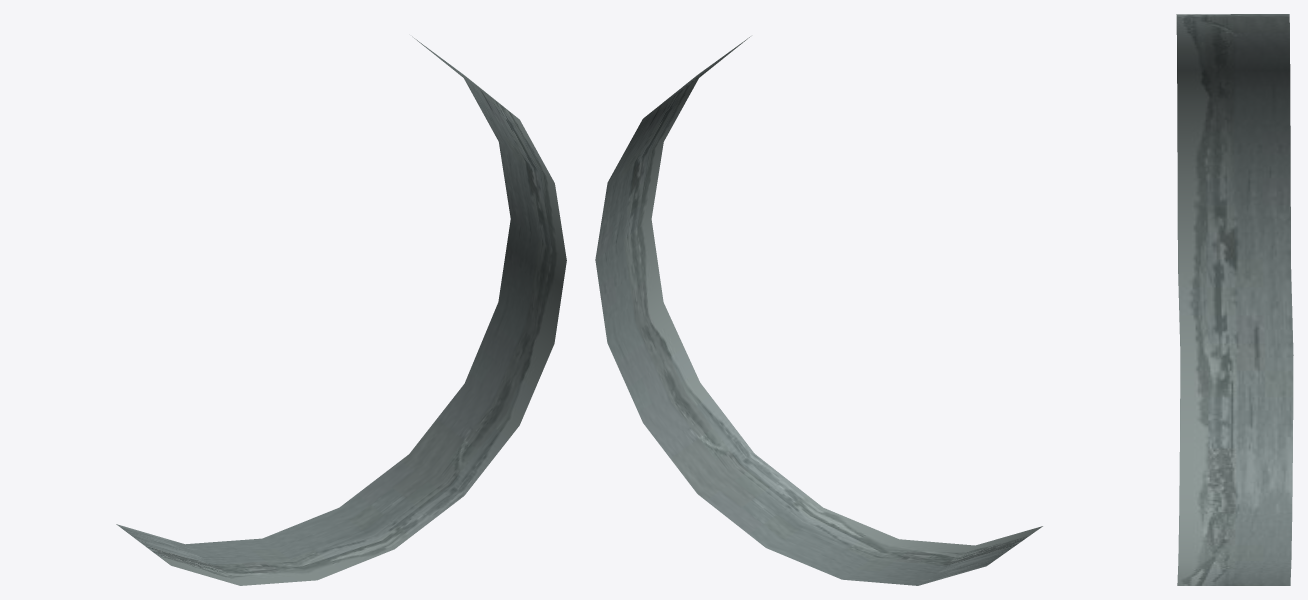
Rendered from backdrop_newvillers_card.glb.
3 views of the same model, side by side, from view 1: azimuth 30°, elevation 25°; view 2: azimuth 150°, elevation 25°; view 3: azimuth 270°, elevation 25° (orthographic).
Size of the model in its own units: 40008 by 40028 by 8194.
Materials: 1 (1 with a texture image).
